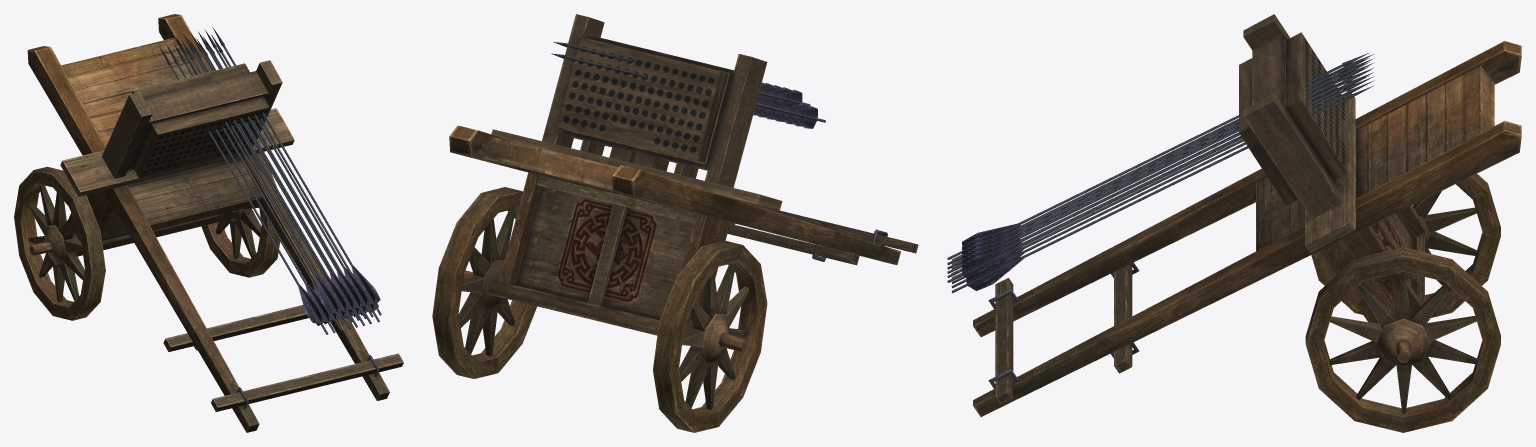
File: weapon_bowcart.fbx
The picture shows the model from 3 angles, left to right: view 1: azimuth 30°, elevation 25°; view 2: azimuth 150°, elevation 25°; view 3: azimuth 270°, elevation 25°; orthographic projection. The views are drawn at different scales.
Visible parts, largest first — view 1: Object14; view 2: Object14; view 3: Object14.
Part boxes in pixels (bbox=[...]): Object14: bbox=[14, 14, 403, 432]; Object14: bbox=[432, 14, 918, 432]; Object14: bbox=[947, 14, 1521, 432].
Size of the model in its own units: 2.9 by 3.15 by 4.96.
